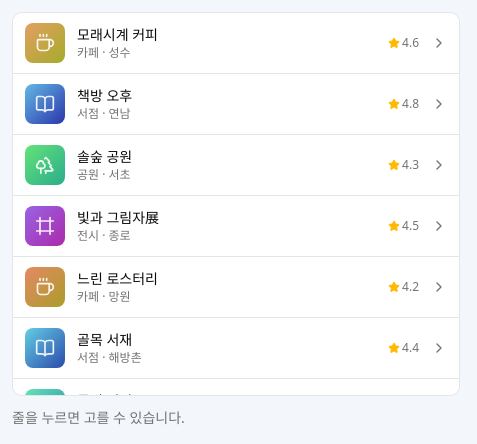
Scenario: list: rows with a picture, title and meta; one can be chosen
Click the button "책방 오후 서점 · 연남 4.8": (45, 104) x1=13 y1=74 x2=459 y2=134
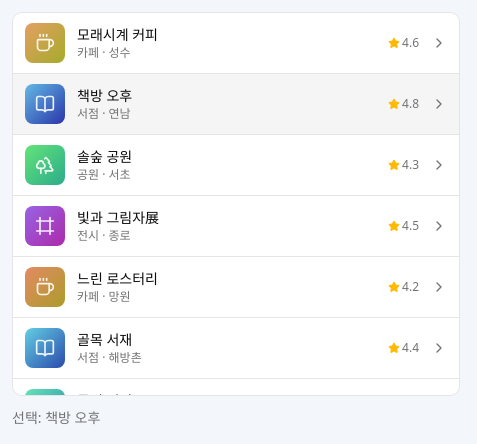
Now the message shows "책방 오후", box x1=12 y1=408 x2=100 y2=427
